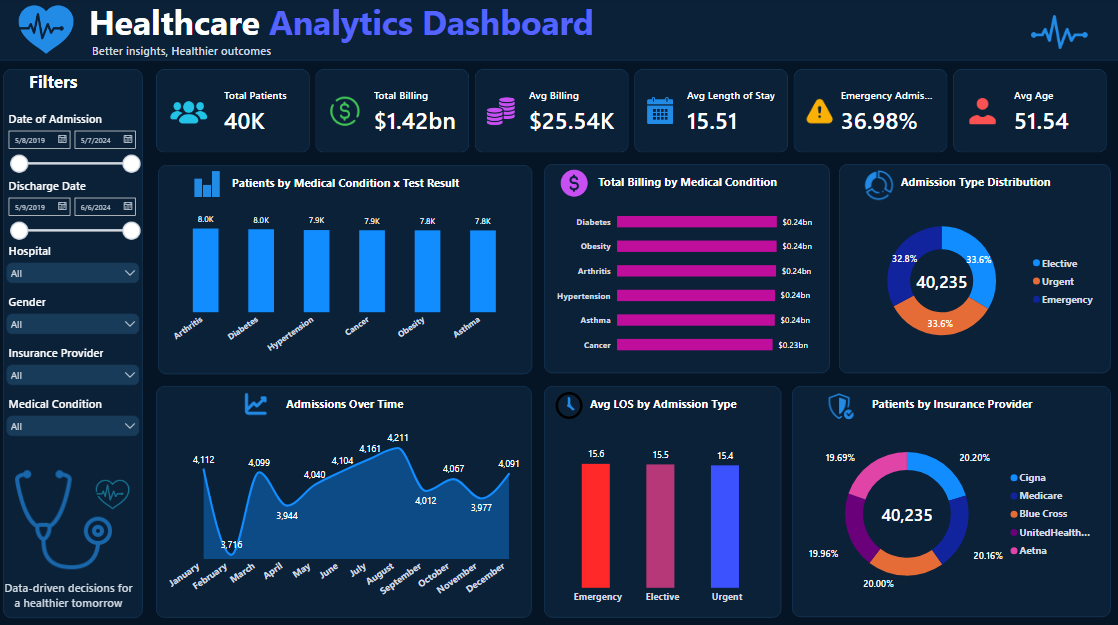

The dashboard page shown, as its layout file describes it:
{"tool":"powerbi","page":{"name":"Page 1","canvas":[1600,900],"ordinal":0},"visuals":[{"type":"textbox","box":[11.4,101.1,199.4,781.8],"z":0},{"type":"textbox","box":[0,0,1633.9,88.7],"z":1000},{"type":"cardVisual","fields":{"Data":["DAX Measures.Total Patients","DAX Measures.Total Billing","DAX Measures.Avg Billing","DAX Measures.Avg LOS","DAX Measures.Emergency Patients","DAX Measures.Avg Age"]},"box":[229.3,101.1,1360,119.6],"z":2000},{"type":"donutChart","title":"Admission Type Distribution","fields":{"Category":["Fact healthcare.Admission Type"],"Y":["DAX Measures.Total Patients"]},"box":[1201.9,236.4,387.3,297.6],"z":3000},{"type":"columnChart","title":"Patients by Medical Condition x Test Result","fields":{"Category":["Fact healthcare.Medical Condition"],"Y":["DAX Measures.Total Patients"]},"box":[232.1,237.8,532.6,297.6],"z":4000},{"type":"barChart","fields":{"Category":["Fact healthcare.Medical Condition"],"Y":["DAX Measures.Total Billing"]},"box":[781.8,236.4,407.3,297.6],"z":5000},{"type":"areaChart","title":"Admissions Over Time","fields":{"Category":["Dim Admission Date.Date of Admission.Variation.Date Hierarchy.Month"],"Y":["DAX Measures.Total Patients"]},"box":[229.3,552.5,535.4,330.4],"z":6000},{"type":"columnChart","fields":{"Category":["Fact healthcare.Admission Type"],"Y":["DAX Measures.Avg LOS"]},"box":[781.8,552.5,337.5,330.4],"z":7000},{"type":"donutChart","title":"Patients by Insurance Provider","fields":{"Category":["Fact healthcare.Insurance Provider"],"Y":["DAX Measures.Total Patients"]},"box":[1135,552.5,454.3,329],"z":8000},{"type":"slicer","fields":{"Values":["Dim Admission Date.Date of Admission"]},"box":[11.4,160.9,199.4,142.4],"z":9000},{"type":"slicer","fields":{"Values":["Dim Discharge Date.Discharge Date"]},"box":[11.4,256.3,199.4,142.4],"z":10000},{"type":"slicer","fields":{"Values":["Fact healthcare.Hospital"]},"box":[11.8,348.6,198.7,72.4],"z":11000},{"type":"slicer","fields":{"Values":["Fact healthcare.Gender"]},"box":[11.8,421.1,198.7,72.4],"z":12000},{"type":"slicer","fields":{"Values":["Fact healthcare.Insurance Provider"]},"box":[11.4,494.1,198.7,72.4],"z":13000},{"type":"slicer","fields":{"Values":["Fact healthcare.Medical Condition"]},"box":[11.4,566.8,198.7,72.4],"z":14000},{"type":"image","box":[1172,559.7,59.8,44.1],"z":15000},{"type":"image","box":[1231.8,243.5,52.7,45.6],"z":16000},{"type":"image","box":[787.5,558.2,59.8,44.1],"z":17000},{"type":"image","box":[348.9,559.7,45.6,37],"z":18000},{"type":"image","box":[801.7,240.7,45.6,45.6],"z":19000},{"type":"image","box":[273.4,243.5,57,39.9],"z":20000},{"type":"image","box":[22.8,4.3,99.7,78.3],"z":21000},{"type":"image","box":[1431.2,0,169.5,101.1],"z":22000},{"type":"image","box":[22.8,639.4,143.8,209.3],"z":22001},{"type":"image","box":[122.5,682.1,89.7,48.4],"z":22002},{"type":"textbox","box":[11.4,828.8,186.6,52.7],"z":22003},{"type":"textbox","box":[138.1,64.1,709.2,24.2],"z":22004}]}

Visuals, with their boxes in screenshot pixels (x1, y1, x2, y2), scaled from the page's 1600x900 canvas onto the 1118x625 screenshot:
textbox: crop(8, 70, 147, 613)
textbox: crop(0, 0, 1117, 62)
cardVisual - DAX Measures.Total Patients x DAX Measures.Total Billing: crop(160, 70, 1111, 153)
"Admission Type Distribution" donutChart: crop(840, 164, 1110, 371)
"Patients by Medical Condition x Test Result" columnChart: crop(162, 165, 534, 372)
barChart - Fact healthcare.Medical Condition x DAX Measures.Total Billing: crop(546, 164, 831, 371)
"Admissions Over Time" areaChart: crop(160, 384, 534, 613)
columnChart - Fact healthcare.Admission Type x DAX Measures.Avg LOS: crop(546, 384, 782, 613)
"Patients by Insurance Provider" donutChart: crop(793, 384, 1111, 612)
slicer - Dim Admission Date.Date of Admission: crop(8, 112, 147, 211)
slicer - Dim Discharge Date.Discharge Date: crop(8, 178, 147, 277)
slicer - Fact healthcare.Hospital: crop(8, 242, 147, 292)
slicer - Fact healthcare.Gender: crop(8, 292, 147, 343)
slicer - Fact healthcare.Insurance Provider: crop(8, 343, 147, 393)
slicer - Fact healthcare.Medical Condition: crop(8, 394, 147, 444)
image: crop(819, 389, 861, 419)
image: crop(861, 169, 898, 201)
image: crop(550, 388, 592, 418)
image: crop(244, 389, 276, 414)
image: crop(560, 167, 592, 199)
image: crop(191, 169, 231, 197)
image: crop(16, 3, 86, 57)
image: crop(1000, 0, 1117, 70)
image: crop(16, 444, 116, 589)
image: crop(86, 474, 148, 507)
textbox: crop(8, 576, 138, 612)
textbox: crop(96, 45, 592, 61)
